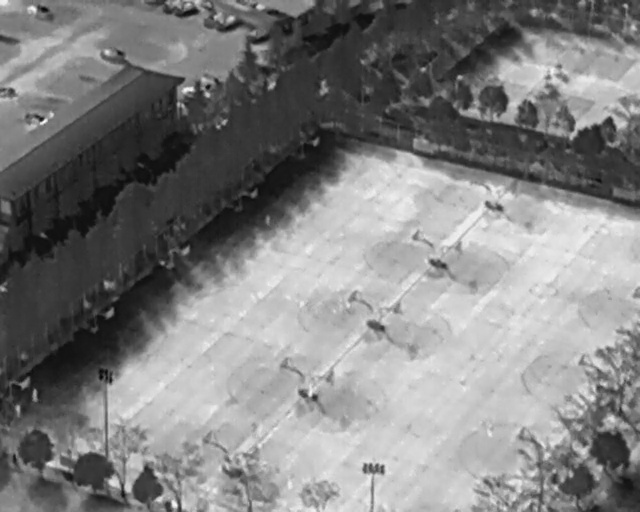Person: (30, 385, 38, 406), (14, 402, 22, 420)
